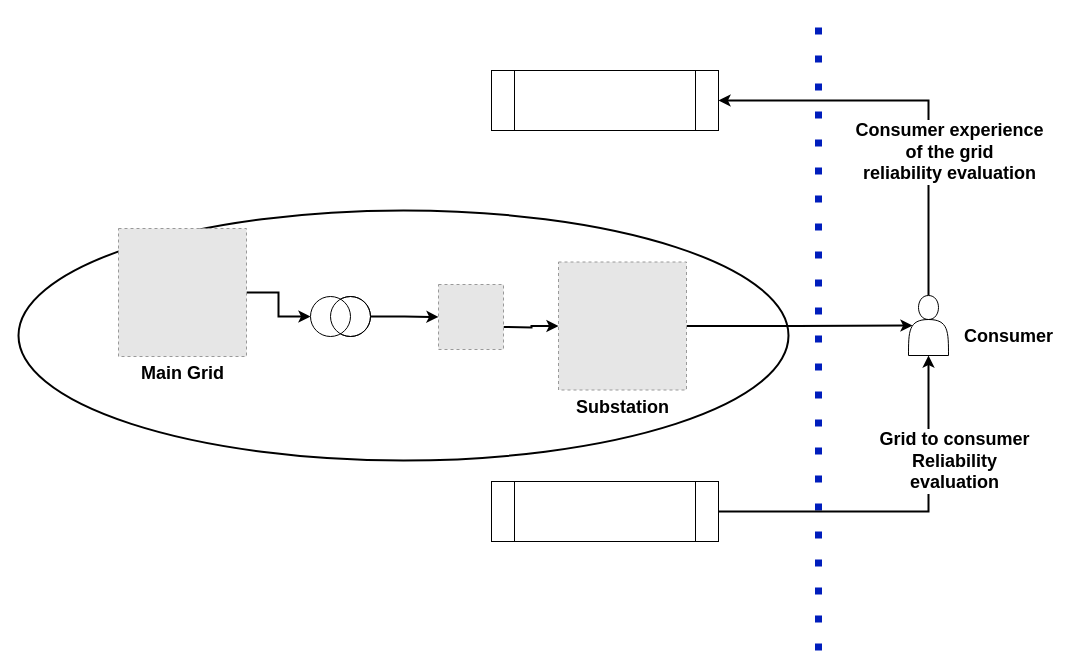
Image size: 1080x672. Some labels were removed from this diagram. Grey dashed boxes stand in for pictures. Here are the shapes that lost their labels. From the top down, the centre of each, then its label:
At point 604,100: "CELID, CEMM,CEMSMI".
At point 604,511: "SAIFI,SAIDI,MAIFI".
